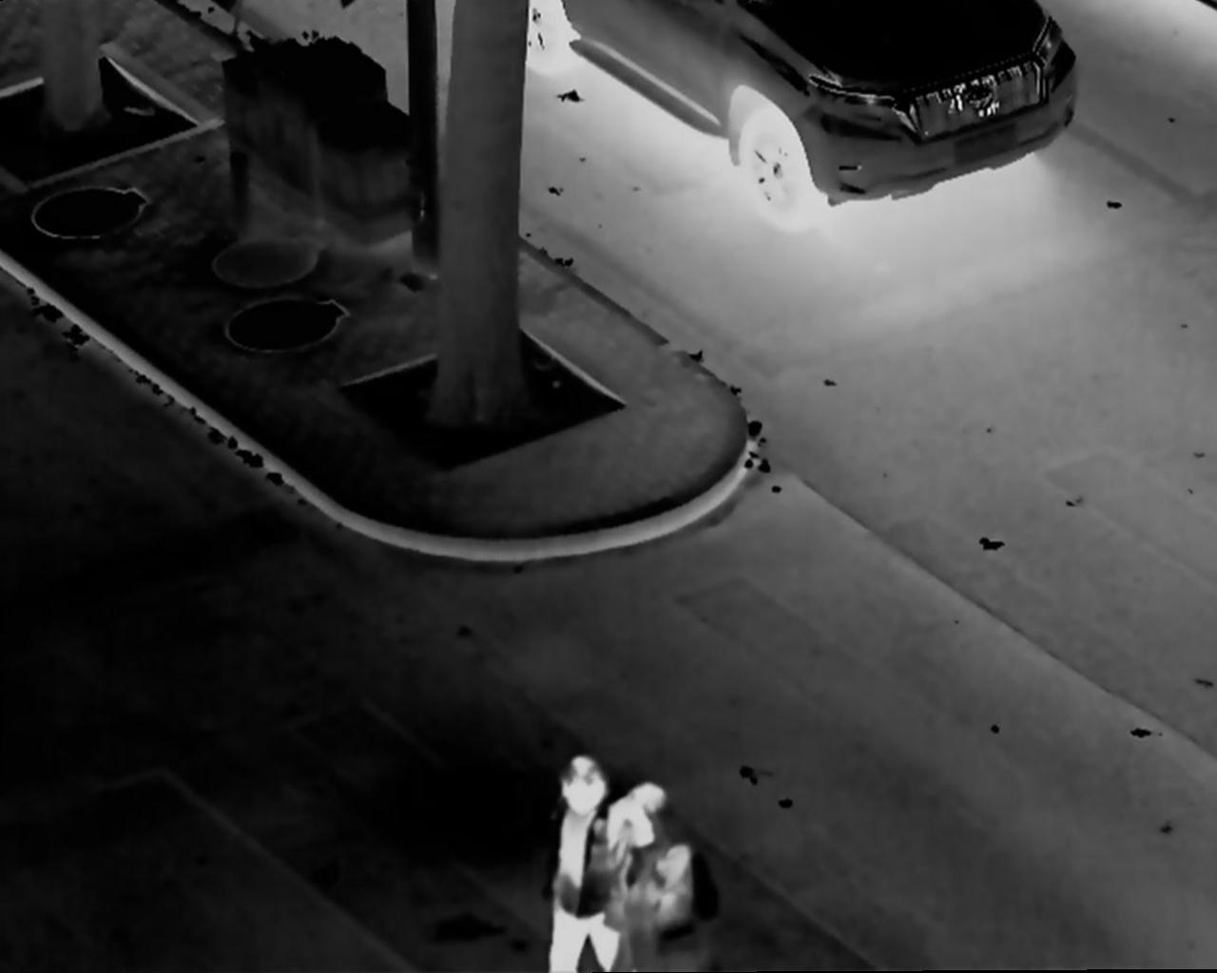person: (606, 779, 707, 973), (543, 750, 612, 973)
